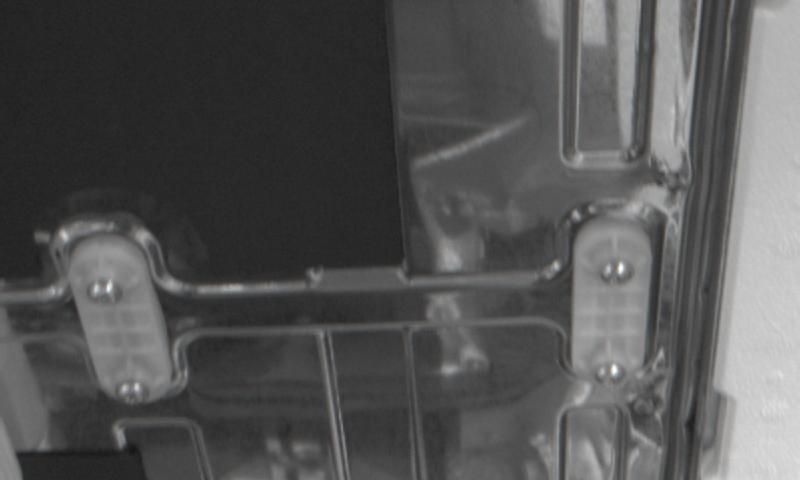vida-ok: (594, 249, 638, 294), (83, 272, 123, 317), (110, 371, 152, 411), (592, 357, 632, 395)
